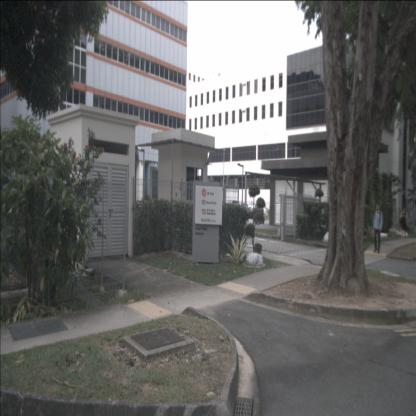human-pedestrian-adult: (373, 203, 383, 254), (399, 206, 407, 240)
